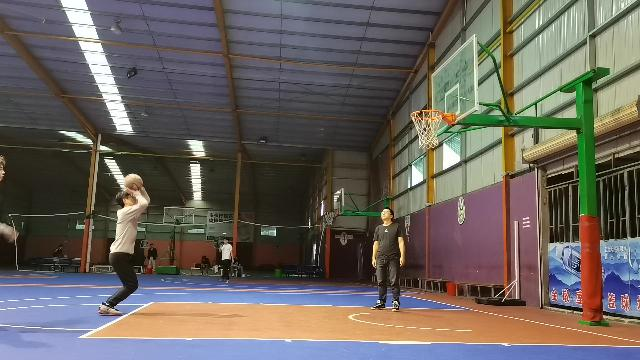ball: (124, 173, 142, 190)
basket: (409, 108, 445, 148), (324, 210, 334, 224)
